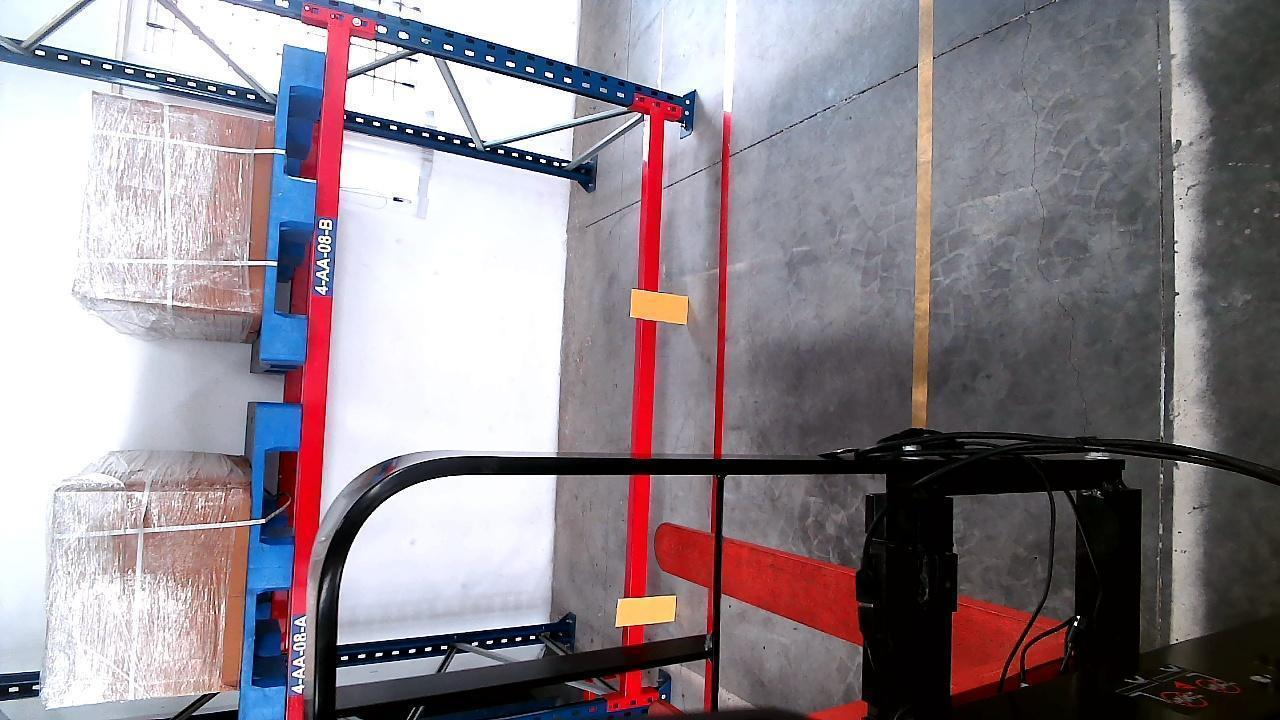red_line: (712, 112, 734, 451)
yellow_line: (911, 0, 937, 431)
